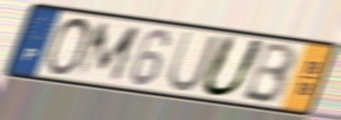6: (127, 27, 172, 88)
B: (239, 41, 299, 106)
M: (74, 22, 143, 84)
O: (44, 16, 94, 77)
U: (198, 33, 269, 100), (164, 29, 223, 94)
